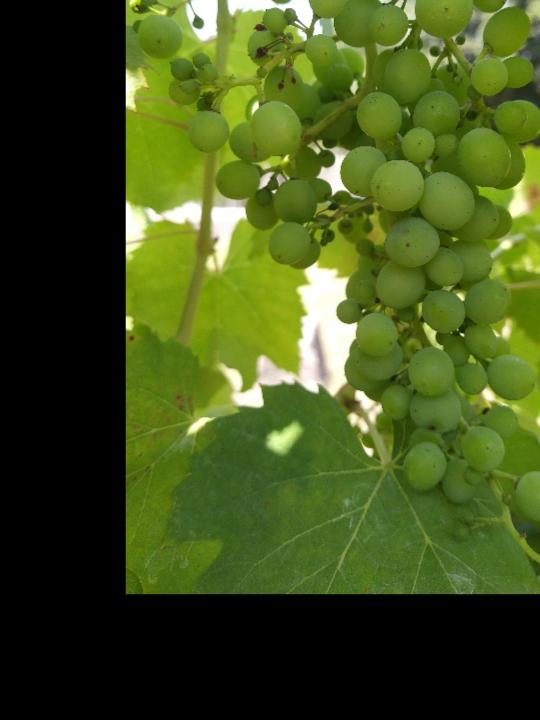grape: (134, 0, 540, 529)
